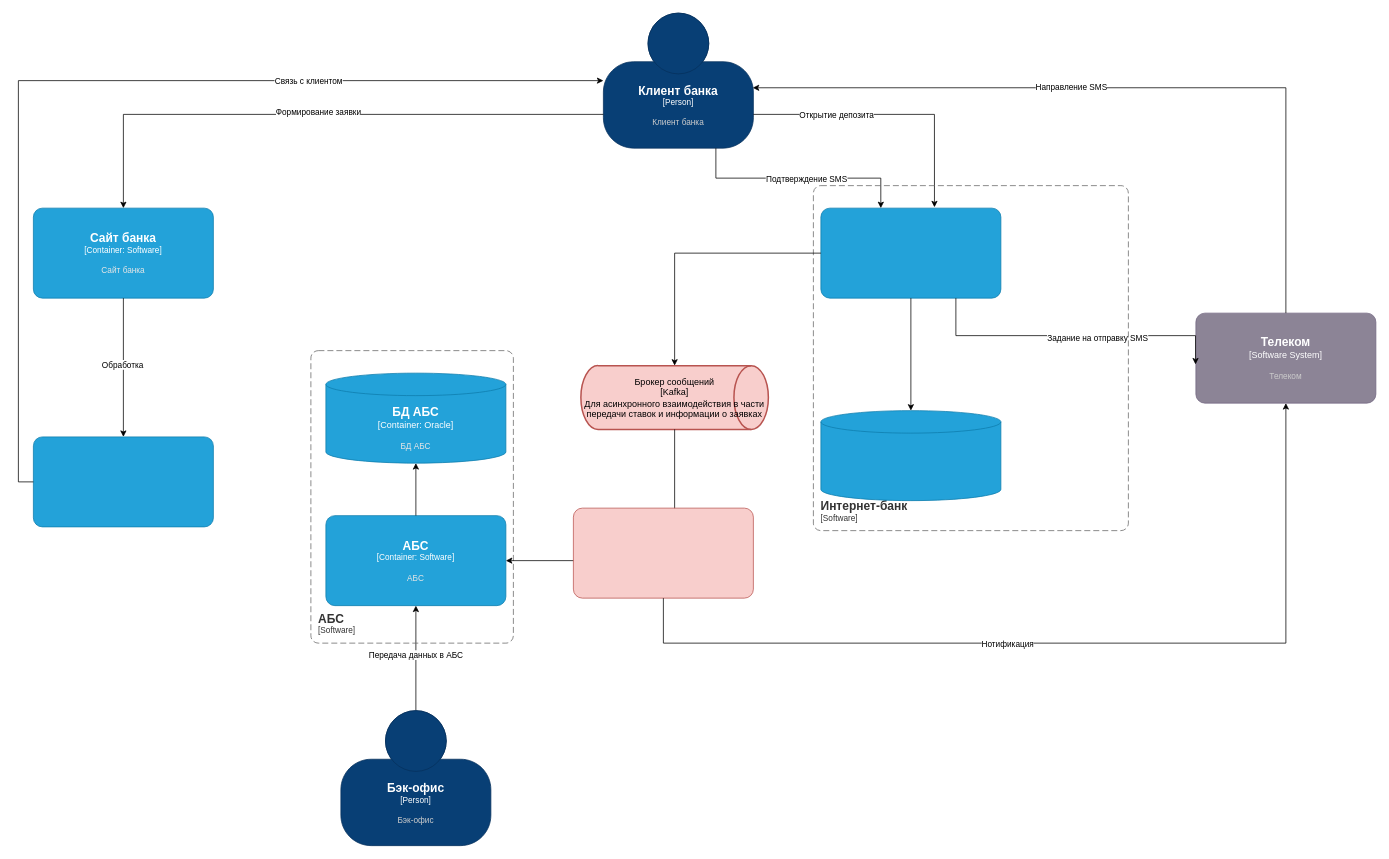
Some shapes in this 1389 by 859 pixel diagram are drawn without their labels. The centre of each missing label's shape, as x and y in pixels:
"БД Интернет-банка [Container: MS SQL] БД Интернет-банка" goes at (910,455).
"Интернет-банк [Container: ASP.NET MVC 4.5] Интернет-банк" goes at (910,252).
"Кол-центр [Container: Software] Кол-центр" goes at (123,481).
"Сервис обработки заявок [Container: .NET] Сервис обработки заявок" goes at (663,552).
